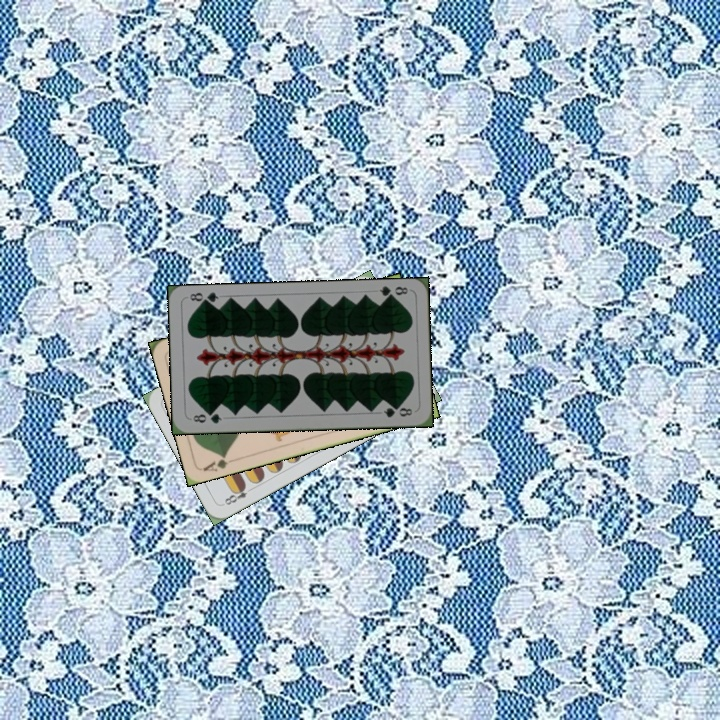E8: (219, 481, 257, 508)
G8: (375, 282, 411, 302), (187, 409, 224, 426)
GA: (199, 450, 239, 474)
